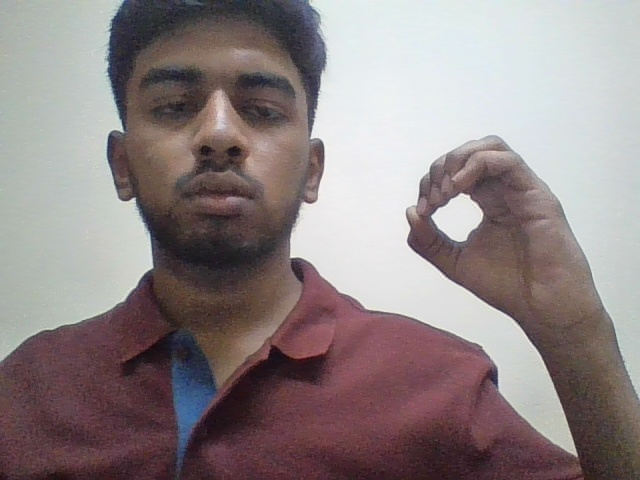O: (379, 120, 614, 345)
